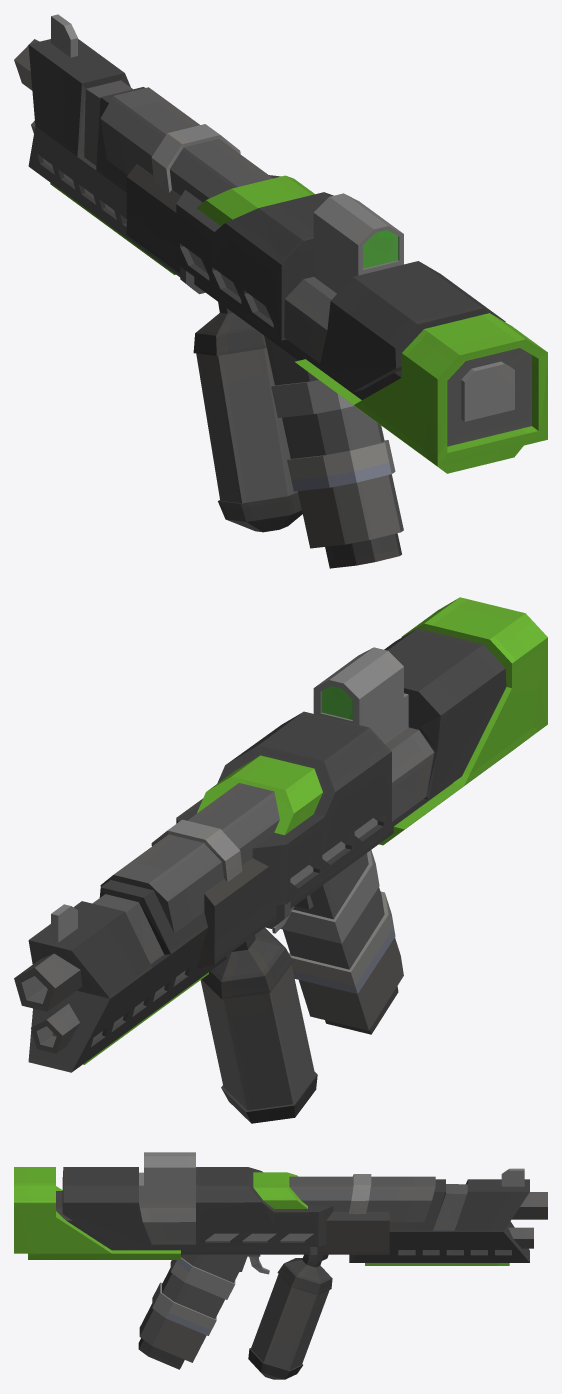
File: flamethrower.glb
3 renders of one model, top to bottom at view 1: azimuth 30°, elevation 25°; view 2: azimuth 150°, elevation 25°; view 3: azimuth 270°, elevation 25°, orthographic. The views are drawn at different scales.
Parts seen in each view (by area): view 1: flamethrower; view 2: flamethrower; view 3: flamethrower.
Part boxes in pixels (x1,y1,x2,y2): flamethrower: (14,14,547,568); flamethrower: (14,597,547,1123); flamethrower: (14,1152,547,1379).
Bounding box in the file's own units: 0.0872 × 0.2904 × 0.6277.
Materials: 1 (1 with a texture image).
